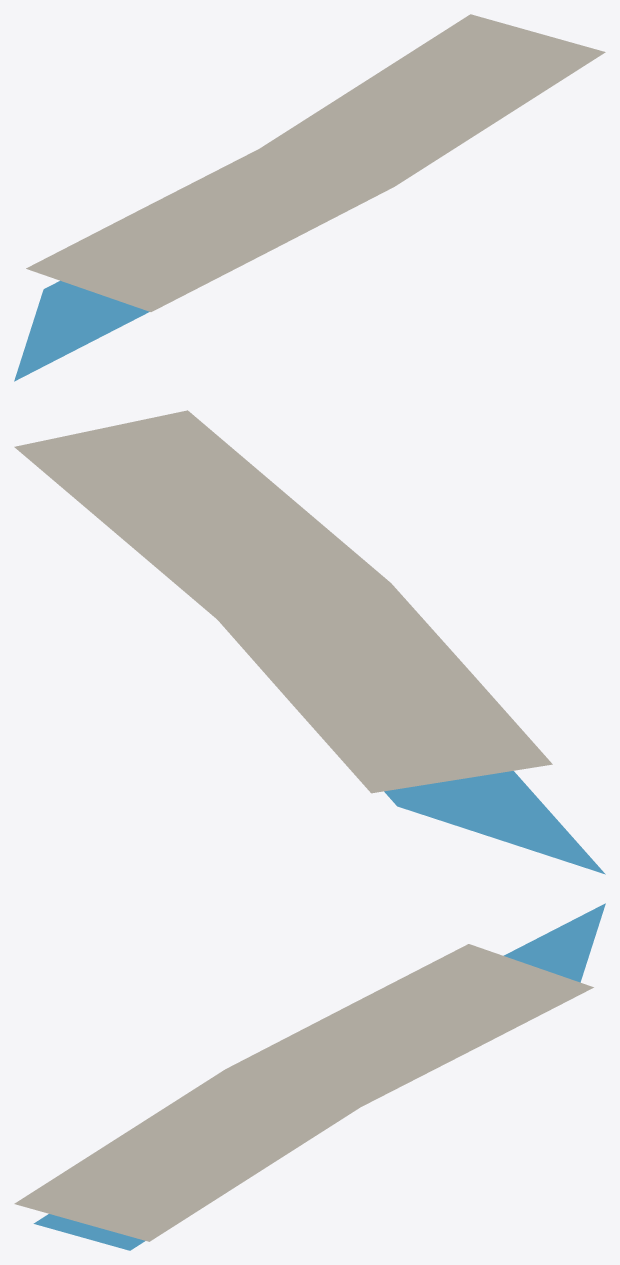
3 renders of one model, top to bottom at view 1: azimuth 90°, elevation 25°; view 2: azimuth 150°, elevation 25°; view 3: azimuth 270°, elevation 25°, orthographic. The views are drawn at different scales.
Visible parts, largest first — view 1: estructura_terreno, estructura_agua; view 2: estructura_terreno, estructura_agua; view 3: estructura_terreno, estructura_agua.
Part boxes in pixels (x1=…): estructura_terreno: x1=26, y1=14, x2=605, y2=311; estructura_agua: x1=14, y1=280, x2=149, y2=381; estructura_terreno: x1=14, y1=410, x2=552, y2=793; estructura_agua: x1=384, y1=771, x2=605, y2=874; estructura_terreno: x1=14, y1=944, x2=593, y2=1241; estructura_agua: x1=33, y1=903, x2=605, y2=1250.
Size of the model in its own units: 21.6 by 0.41 by 15.3.
